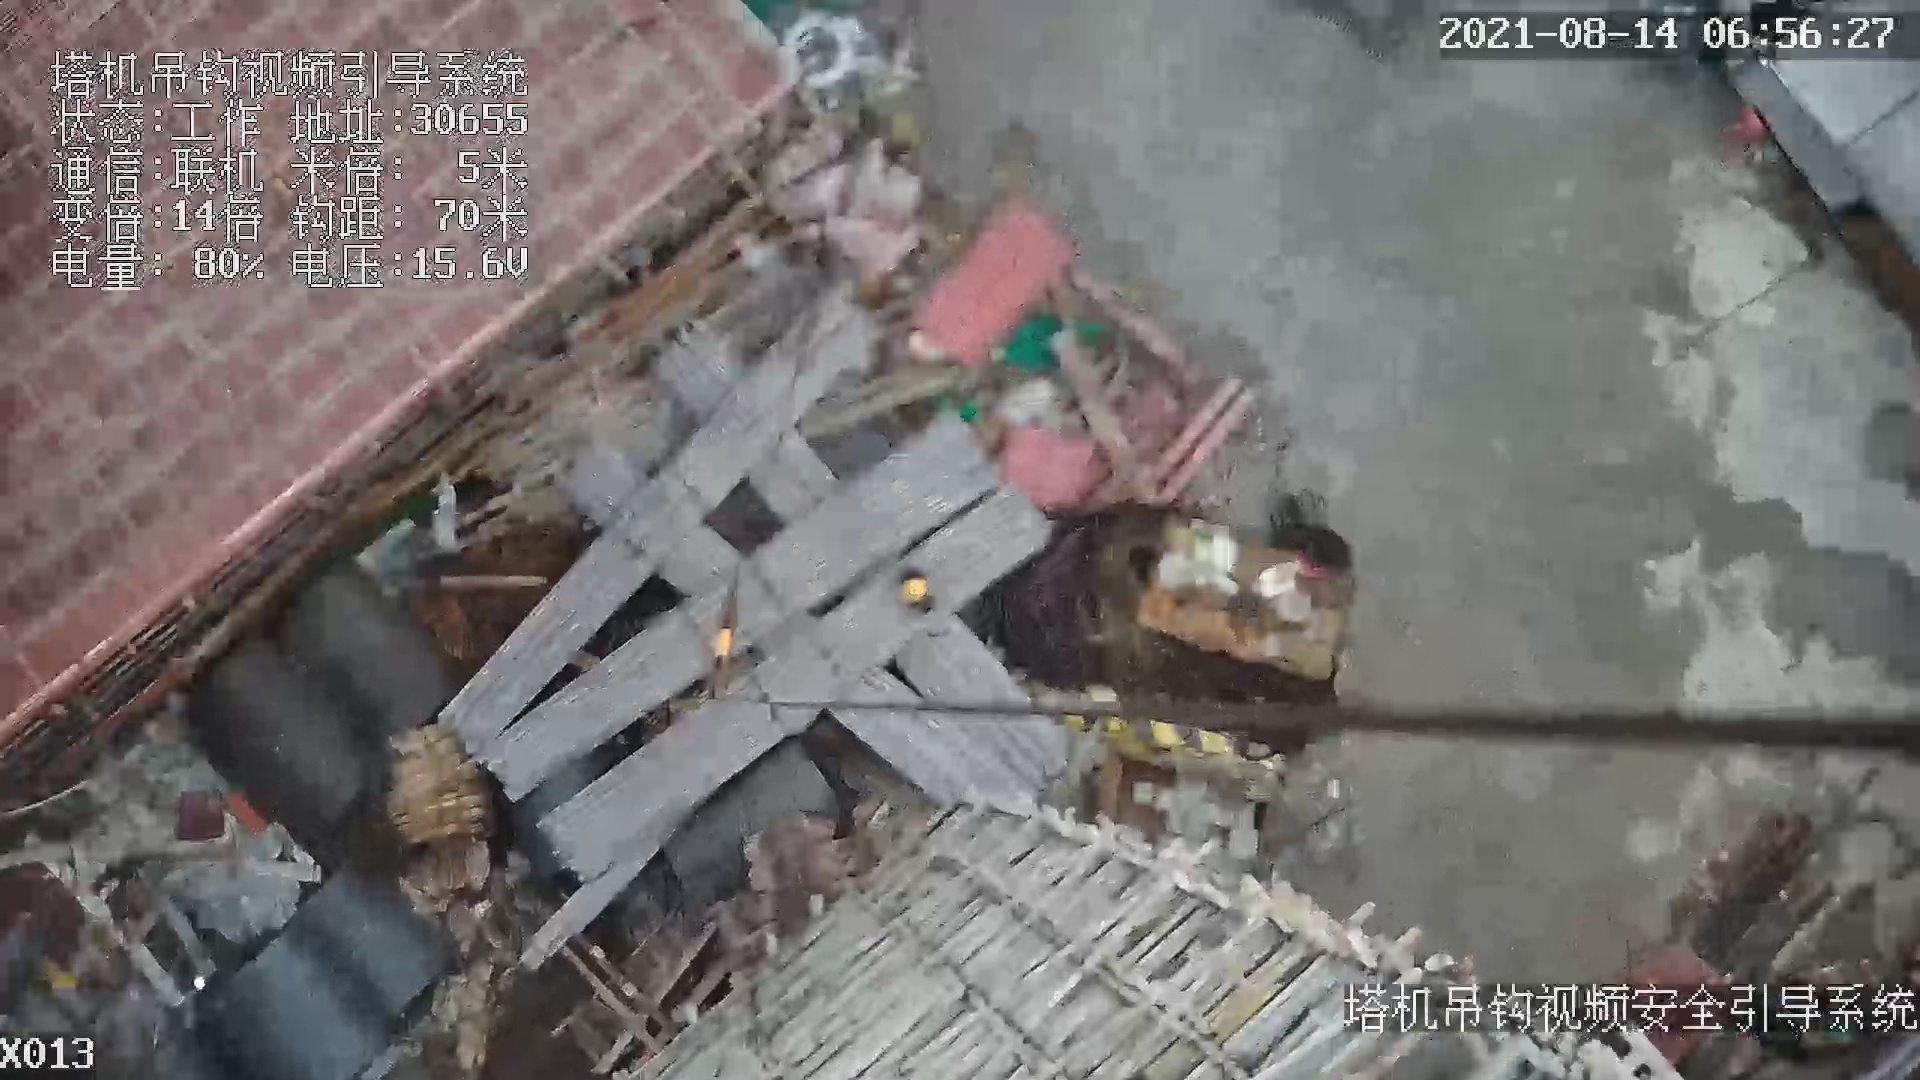helmet: (903, 578, 926, 599)
hook: (718, 578, 749, 701)
person: (901, 568, 937, 615)
rebar: (433, 291, 885, 756), (471, 407, 1004, 799), (536, 487, 1052, 883), (897, 616, 1063, 779), (825, 666, 1004, 800)
wood: (389, 745, 486, 846)
